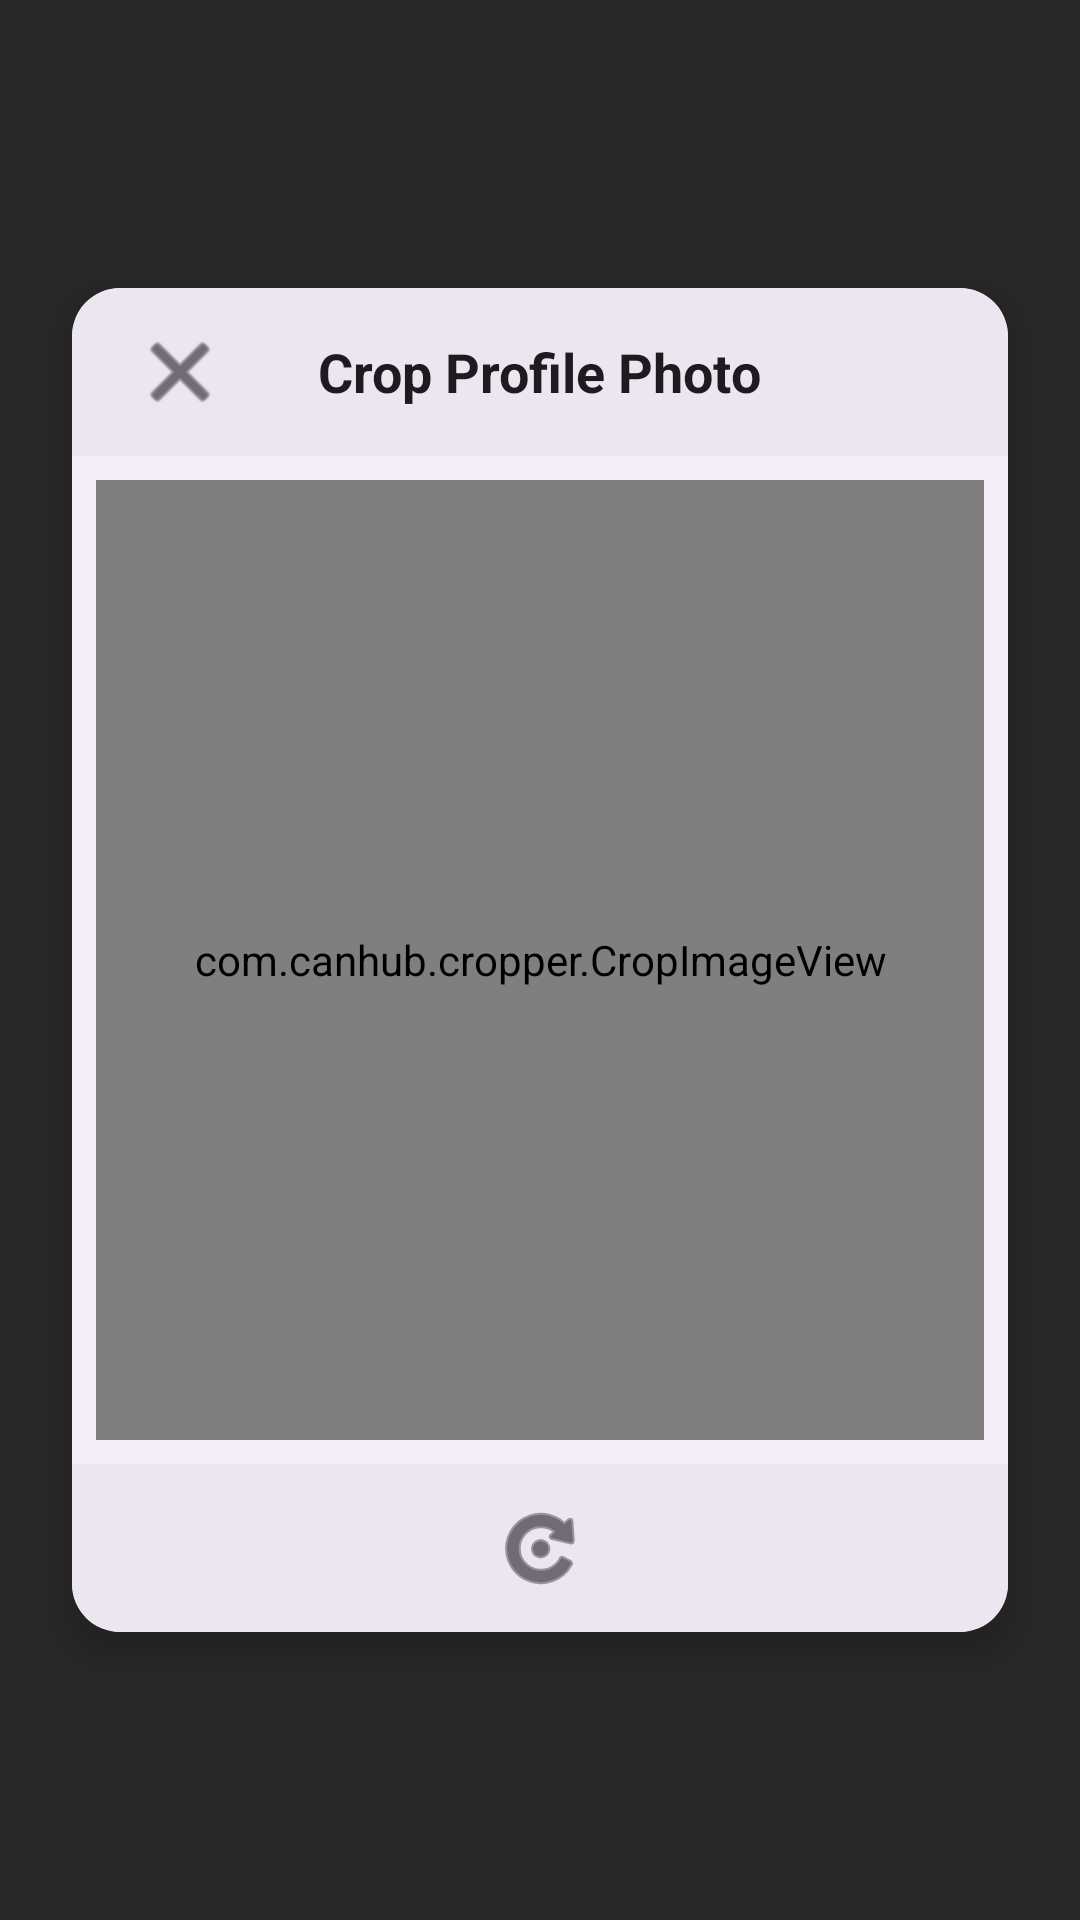

Named icons in this screenshot (1080 × 1920) and their centers, [x,y]:
Cancel: [180,372]
Rotate: [540,1548]
